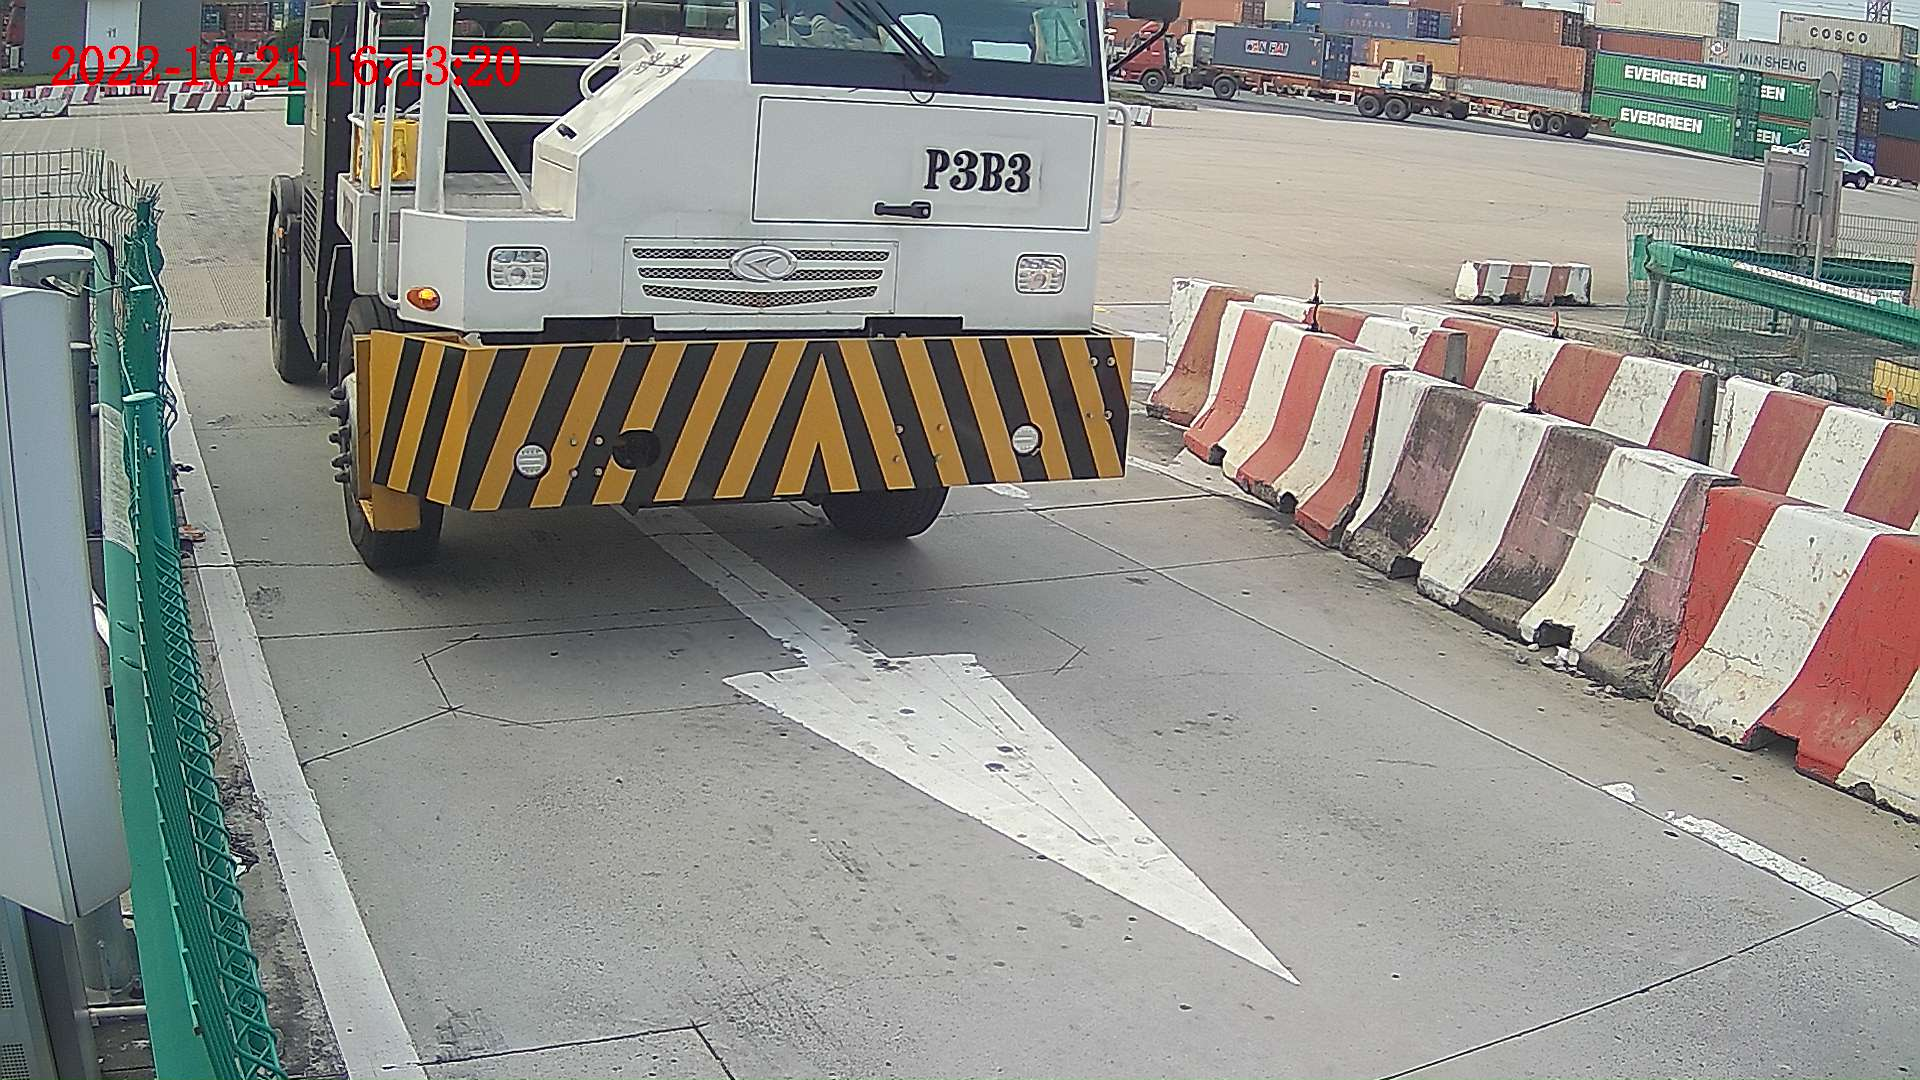head: (326, 1, 1141, 576)
